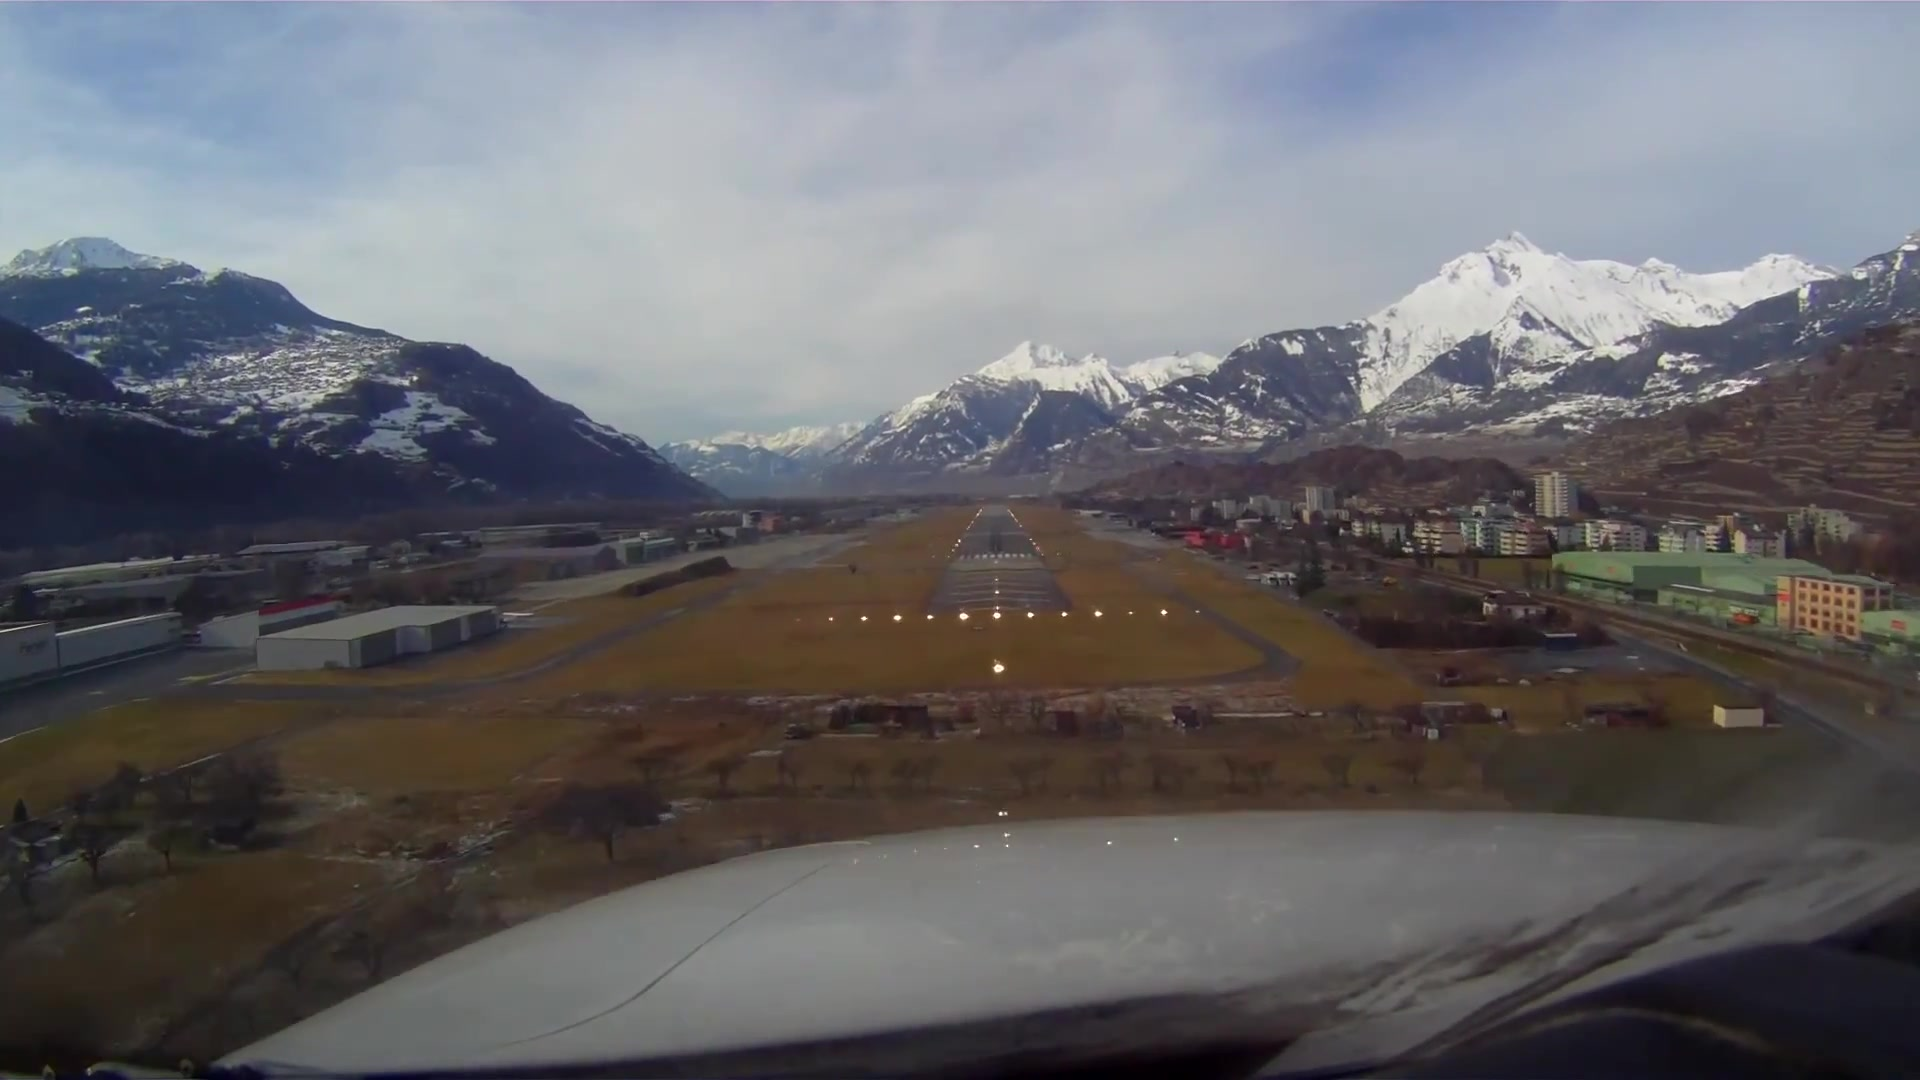runway: (945, 498, 1054, 578)
